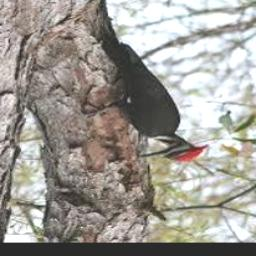Woodpecker: (82, 0, 209, 162)
